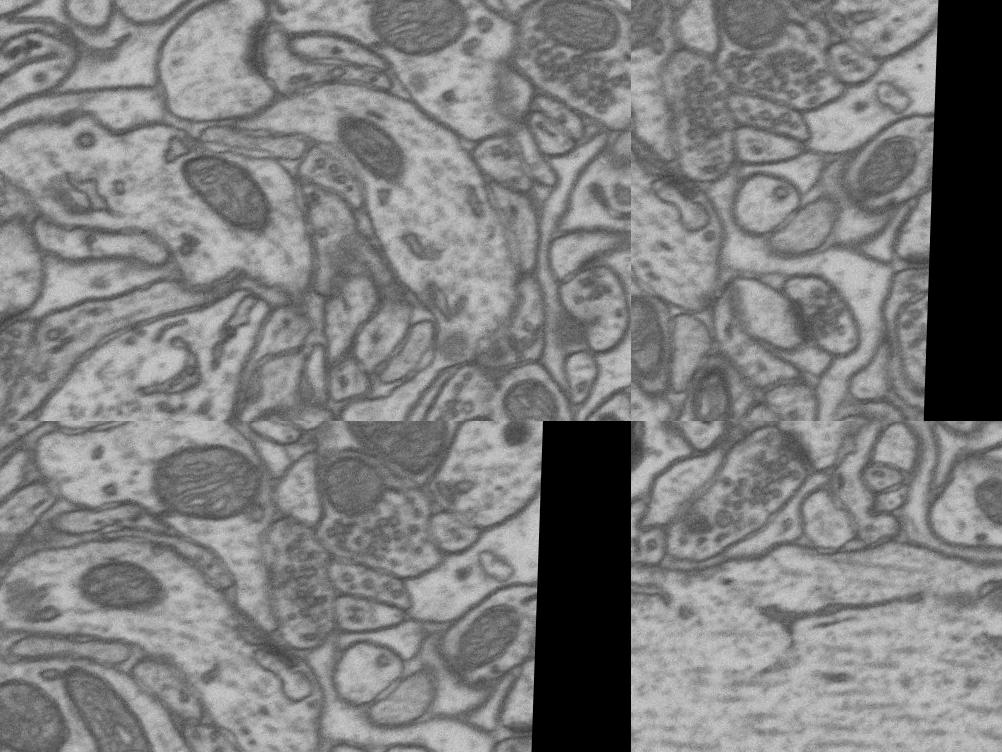mitochondria: (146, 436, 273, 525), (174, 143, 284, 244), (53, 662, 164, 752), (321, 103, 417, 190), (833, 128, 919, 215), (436, 598, 522, 684), (338, 421, 454, 483), (356, 0, 473, 61), (74, 554, 172, 618), (646, 482, 726, 560), (522, 0, 628, 58), (0, 672, 75, 752), (311, 447, 386, 522), (631, 296, 674, 394), (496, 367, 571, 421), (708, 0, 783, 53), (683, 367, 735, 421), (981, 480, 1002, 547), (576, 401, 631, 421)
